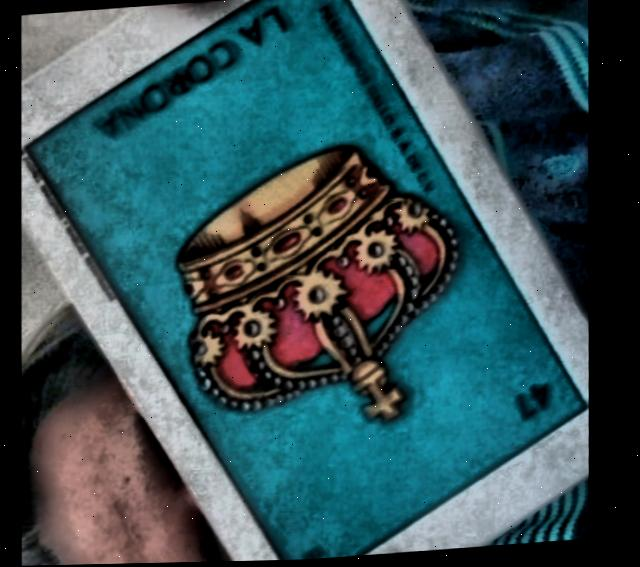La Corona: (28, 0, 592, 562)
